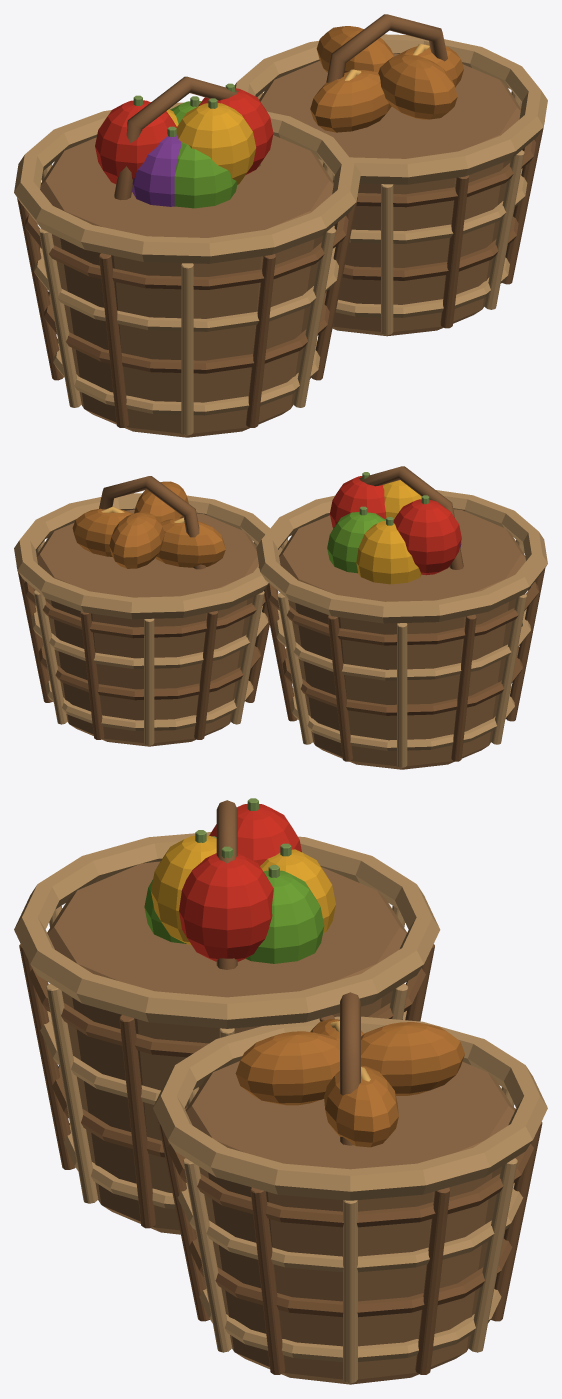
File: cestos_feira.glb
3 renders of one model, top to bottom at view 1: azimuth 30°, elevation 25°; view 2: azimuth 150°, elevation 25°; view 3: azimuth 270°, elevation 25°, orthographic. The views are drawn at different scales.
Parts seen in each view (by area): view 1: Cesto de maçãs | corpo trançado, Cesto de pães | corpo trançado, Cesto de maçãs | borda, Cesto de pães | borda, Cesto de maçãs | aro horizontal 3, Cesto de maçãs | fruta 06, Cesto de pães | pão 03, Cesto de maçãs | aro horizontal 2, Cesto de pães | pão 02, Cesto de maçãs | fruta 03, Cesto de maçãs | aro horizontal 1, Cesto de maçãs | aro horizontal 0 (+22 smaller); view 2: Cesto de maçãs | corpo trançado, Cesto de pães | corpo trançado, Cesto de maçãs | borda, Cesto de pães | borda, Cesto de maçãs | fruta 03, Cesto de maçãs | fruta 02, Cesto de maçãs | aro horizontal 3, Cesto de maçãs | aro horizontal 2, Cesto de pães | pão 02, Cesto de pães | pão 01, Cesto de maçãs | aro horizontal 1, Cesto de pães | aro horizontal 3 (+25 smaller); view 3: Cesto de pães | corpo trançado, Cesto de maçãs | corpo trançado, Cesto de maçãs | borda, Cesto de pães | borda, Cesto de maçãs | fruta 00, Cesto de pães | pão 03, Cesto de pães | pão 01, Cesto de pães | aro horizontal 3, Cesto de pães | aro horizontal 2, Cesto de maçãs | fruta 01, Cesto de pães | aro horizontal 1, Cesto de pães | pão 00 (+21 smaller).
Boxes of the visible parts, left/top/right/bottom form: Cesto de maçãs | corpo trançado: left=40, top=135, right=333, bottom=437; Cesto de pães | corpo trançado: left=259, top=53, right=520, bottom=336; Cesto de maçãs | borda: left=14, top=102, right=360, bottom=263; Cesto de pães | borda: left=235, top=34, right=547, bottom=184; Cesto de maçãs | aro horizontal 3: left=24, top=214, right=348, bottom=289; Cesto de maçãs | fruta 06: left=176, top=103, right=256, bottom=184; Cesto de pães | pão 03: left=378, top=55, right=457, bottom=119; Cesto de maçãs | aro horizontal 2: left=34, top=246, right=338, bottom=331; Cesto de pães | pão 02: left=310, top=70, right=391, bottom=132; Cesto de maçãs | fruta 03: left=95, top=100, right=176, bottom=184; Cesto de maçãs | aro horizontal 1: left=43, top=291, right=329, bottom=373; Cesto de maçãs | aro horizontal 0: left=53, top=338, right=320, bottom=415; Cesto de maçãs | corpo trançado: left=279, top=509, right=525, bottom=769; Cesto de pães | corpo trançado: left=36, top=509, right=258, bottom=746; Cesto de maçãs | borda: left=256, top=490, right=547, bottom=623; Cesto de pães | borda: left=14, top=493, right=282, bottom=619; Cesto de maçãs | fruta 03: left=393, top=499, right=461, bottom=575; Cesto de maçãs | fruta 02: left=356, top=520, right=421, bottom=584; Cesto de maçãs | aro horizontal 3: left=266, top=582, right=538, bottom=645; Cesto de maçãs | aro horizontal 2: left=274, top=608, right=530, bottom=680; Cesto de pães | pão 02: left=155, top=518, right=225, bottom=567; Cesto de pães | pão 01: left=109, top=512, right=164, bottom=568; Cesto de maçãs | aro horizontal 1: left=282, top=646, right=522, bottom=715; Cesto de pães | aro horizontal 3: left=24, top=581, right=265, bottom=638; Cesto de pães | corpo trançado: left=185, top=1061, right=514, bottom=1384; Cesto de maçãs | corpo trançado: left=47, top=861, right=406, bottom=1234; Cesto de maçãs | borda: left=14, top=832, right=440, bottom=1028; Cesto de pães | borda: left=153, top=1016, right=547, bottom=1200; Cesto de maçãs | fruta 00: left=179, top=853, right=273, bottom=961; Cesto de pães | pão 03: left=235, top=1031, right=339, bottom=1105; Cesto de pães | pão 01: left=361, top=1022, right=464, bottom=1095; Cesto de pães | aro horizontal 3: left=167, top=1107, right=533, bottom=1227; Cesto de pães | aro horizontal 2: left=177, top=1183, right=523, bottom=1272; Cesto de maçãs | fruta 01: left=245, top=870, right=324, bottom=963; Cesto de pães | aro horizontal 1: left=188, top=1231, right=512, bottom=1317; Cesto de pães | pão 00: left=324, top=1065, right=398, bottom=1147.
Size of the model in its own units: 0.8667 by 0.4818 by 0.6067.
